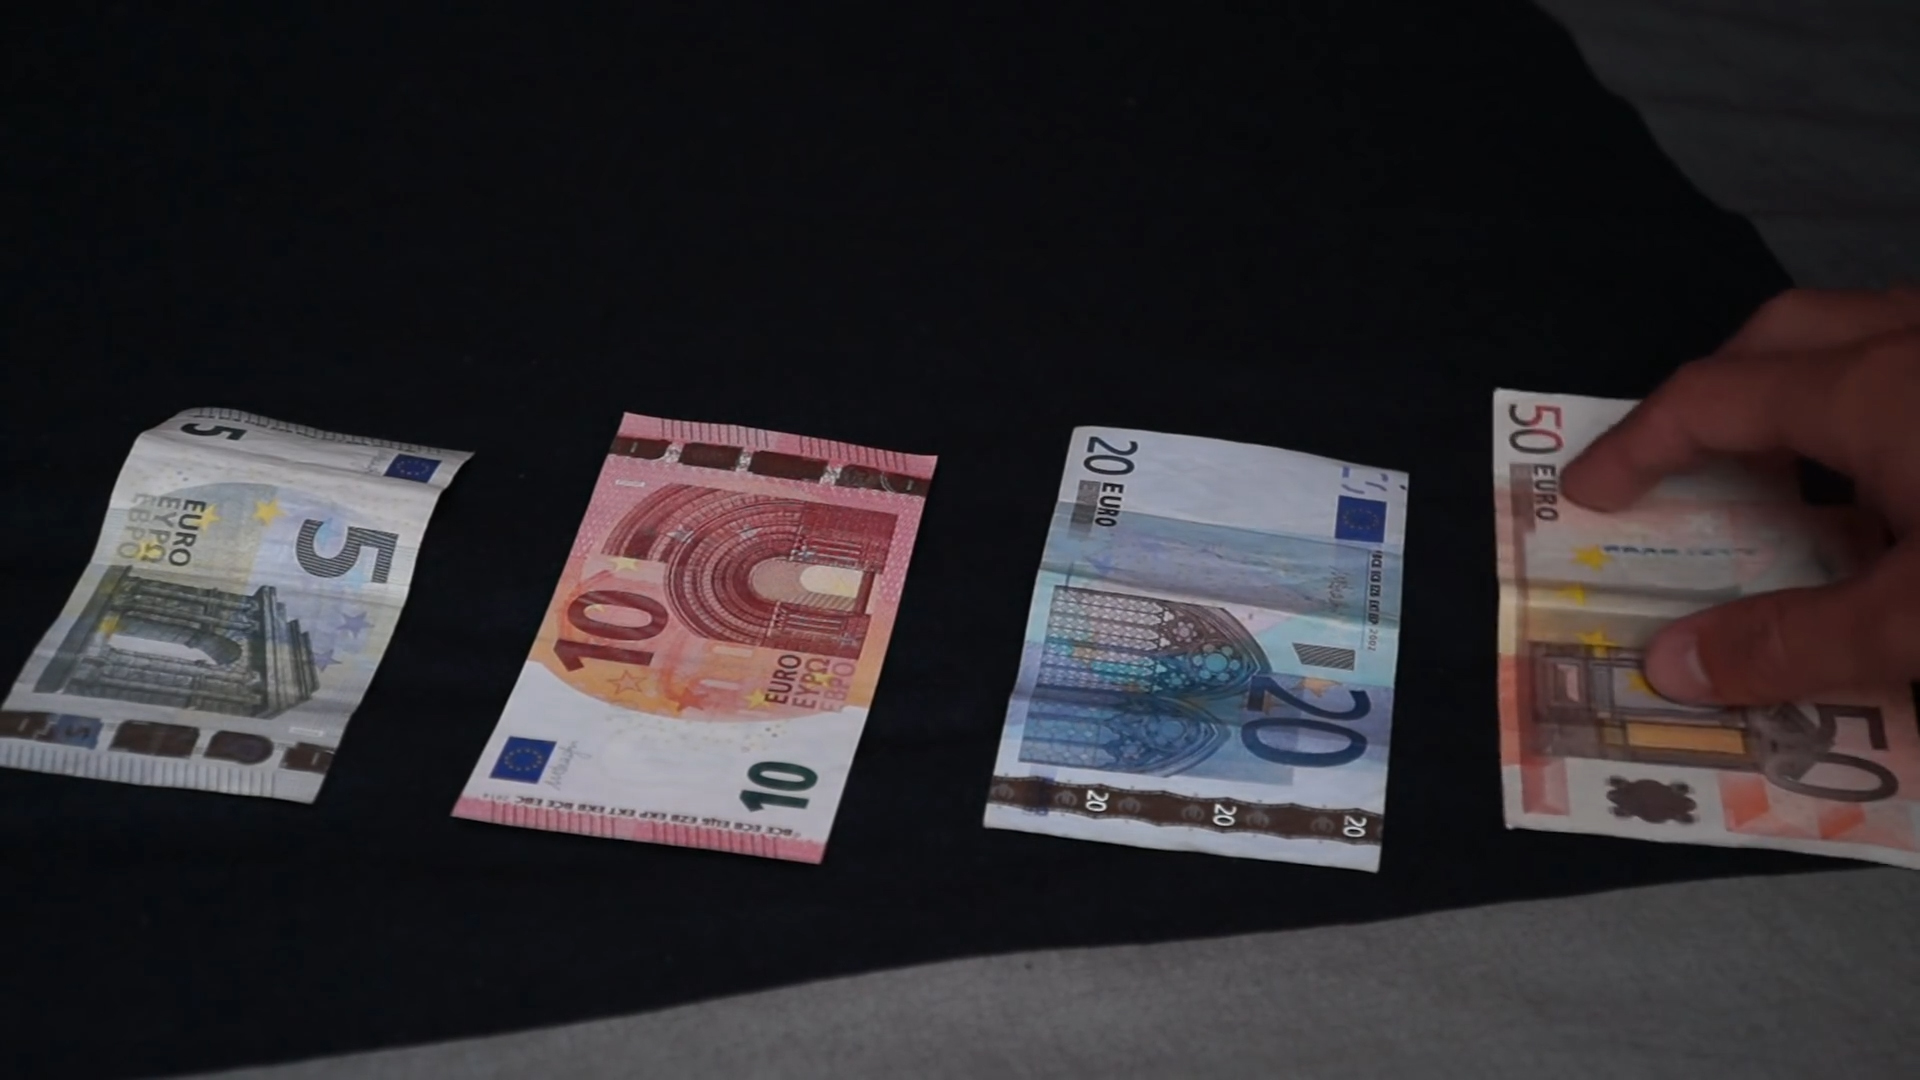billete: (446, 407, 942, 866), (1487, 386, 1920, 876), (980, 423, 1414, 876), (1, 405, 477, 808)
